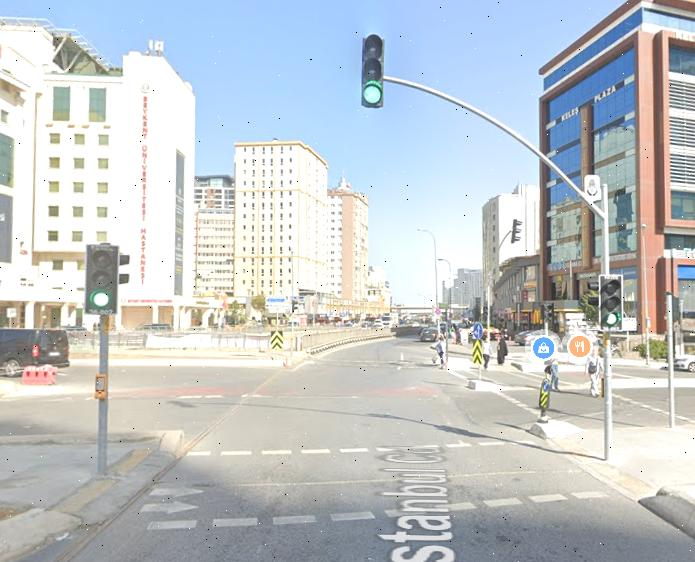greenlight: (361, 35, 384, 109), (88, 251, 115, 314), (600, 274, 622, 332)
